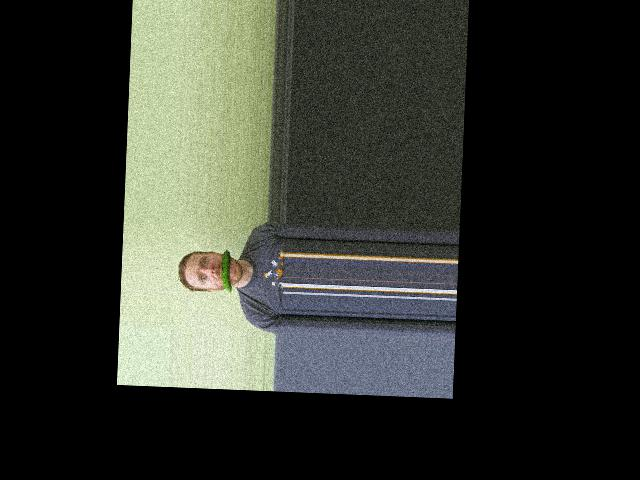cucumber: (221, 249, 233, 292)
